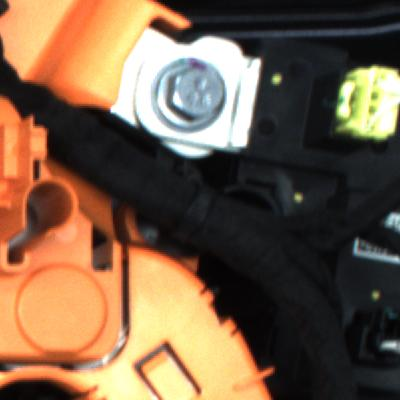nut_b: (139, 50, 248, 143)
